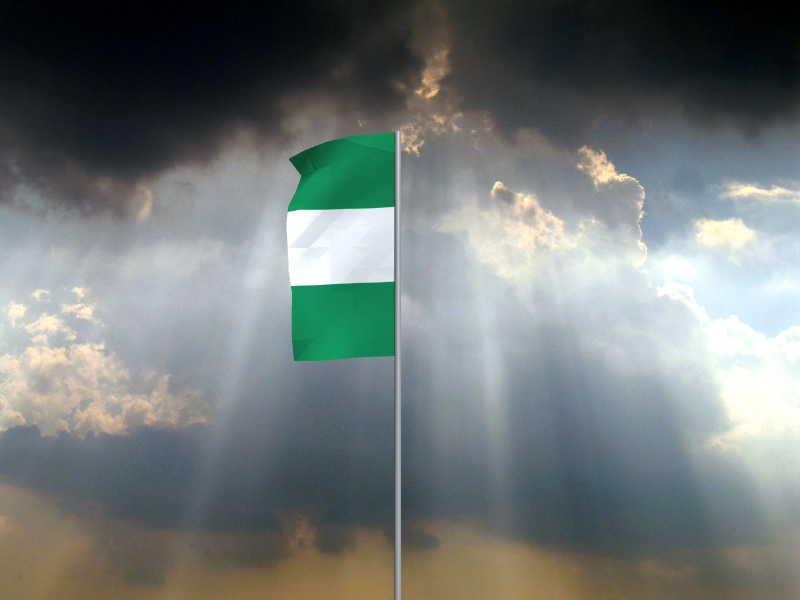ng: (286, 132, 396, 363)
